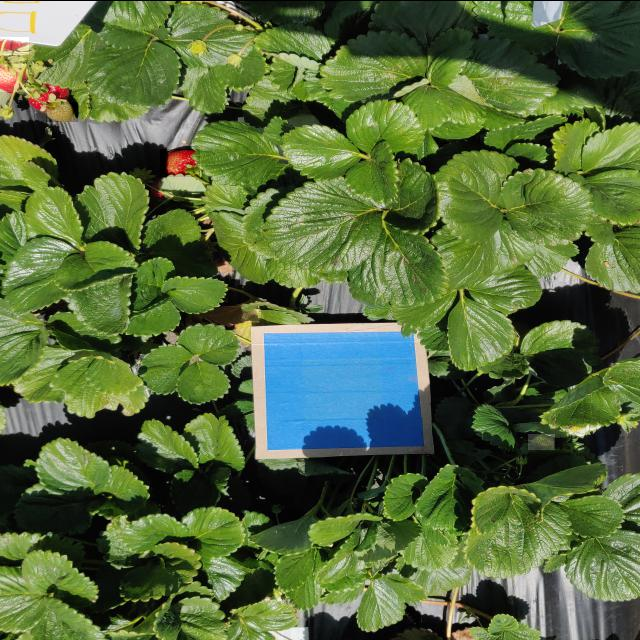Green Strawberry: (46, 100, 79, 121), (0, 35, 30, 54), (528, 432, 556, 449)
Red Strawberry: (26, 82, 71, 109), (160, 147, 201, 176), (0, 62, 28, 91)
